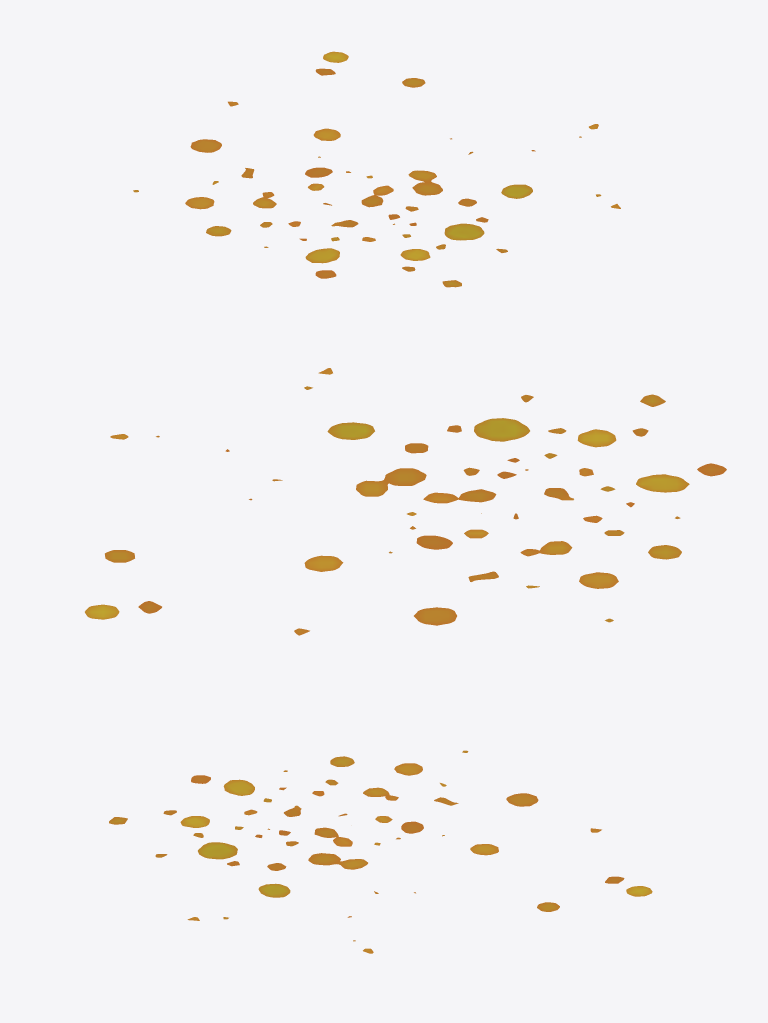
File: Ground_Decal1_(2).fbx
3 renders of one model, top to bottom at view 1: azimuth 30°, elevation 25°; view 2: azimuth 150°, elevation 25°; view 3: azimuth 270°, elevation 25°, orthographic. The views are drawn at different scales.
Visible parts, largest first — view 1: Ground_Decal1__2_; view 2: Ground_Decal1__2_; view 3: Ground_Decal1__2_.
Part boxes in pixels (x1=…): Ground_Decal1__2_: x1=133, y1=51, x2=620, y2=287; Ground_Decal1__2_: x1=85, y1=368, x2=726, y2=635; Ground_Decal1__2_: x1=109, y1=750, x2=652, y2=953.
Bounding box in the file's own units: 274 × 0 × 274.
1 material, 1 textured.
